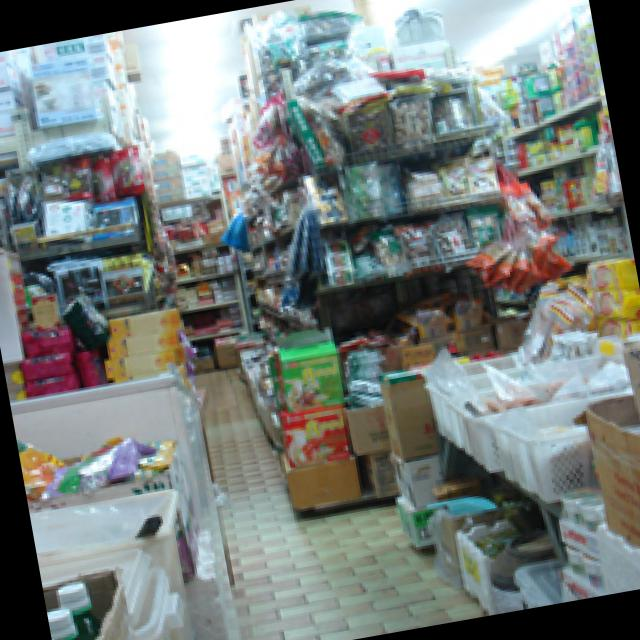baskets: (12, 376, 233, 640), (415, 340, 632, 501)
box contants: (583, 390, 640, 547), (267, 324, 341, 407), (279, 449, 355, 510), (274, 398, 346, 461)
box occluded: (620, 330, 640, 429)
boxs: (372, 368, 453, 549)
floor -X: (186, 355, 631, 640)
merchandise: (3, 246, 162, 398), (0, 31, 145, 155), (473, 0, 596, 138), (511, 484, 640, 605), (0, 149, 156, 248), (322, 204, 493, 278), (491, 101, 605, 172), (101, 303, 185, 379), (533, 148, 610, 210), (147, 141, 216, 199), (544, 210, 623, 255)
shelves crop: (204, 0, 547, 509), (468, 0, 639, 333), (0, 105, 188, 400), (145, 138, 233, 368)
